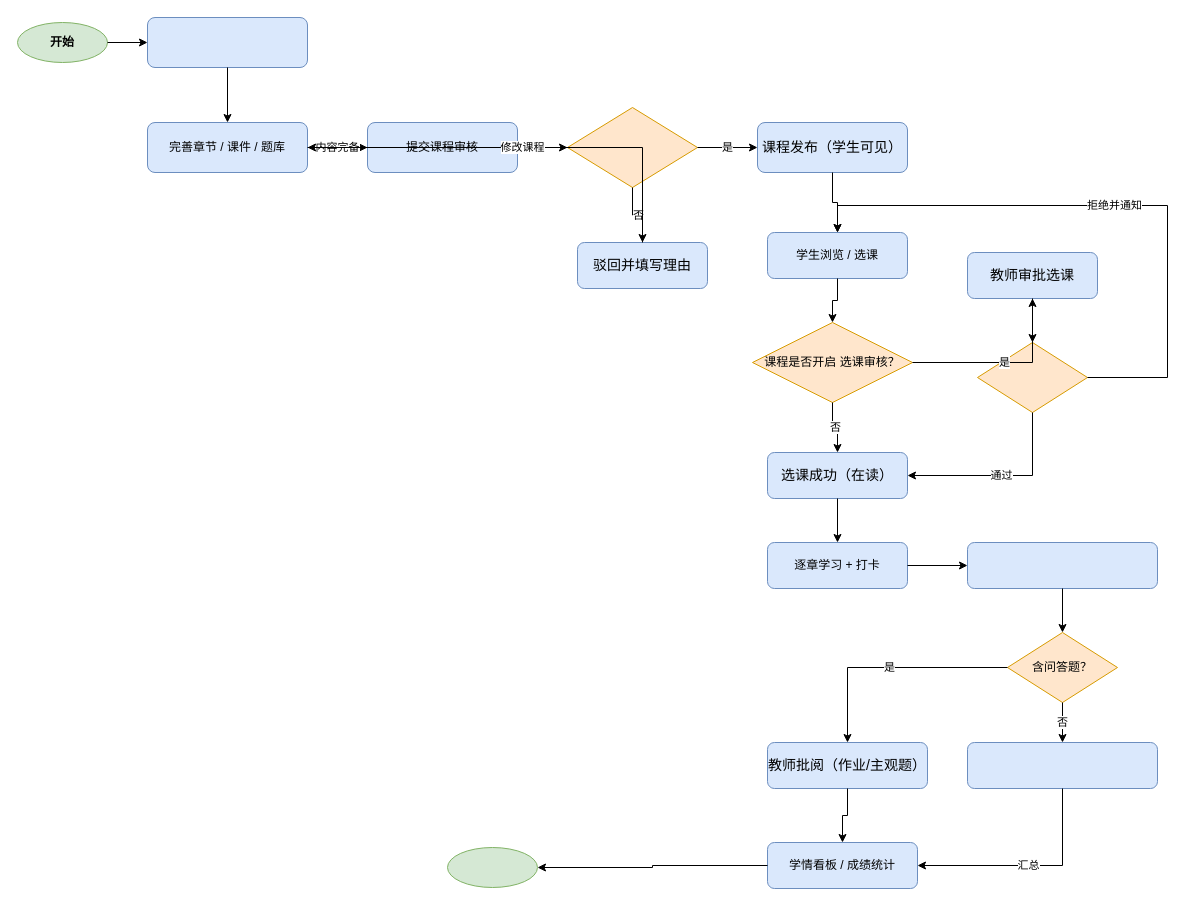
Some shapes in this 1193 by 906 pixel diagram are drawn without their labels. Each missing label, with the centre of its shape:
"参加测验（时间窗内一次提交）" belongs at [1062,565].
"客观题自动判分 + 解析" belongs at [1062,765].
"教师创建课程（草稿）" belongs at [227,42].
"是否通过？" belongs at [1032,377].
"管理员审核 是否通过？" belongs at [632,147].
"结束" belongs at [492,867].
